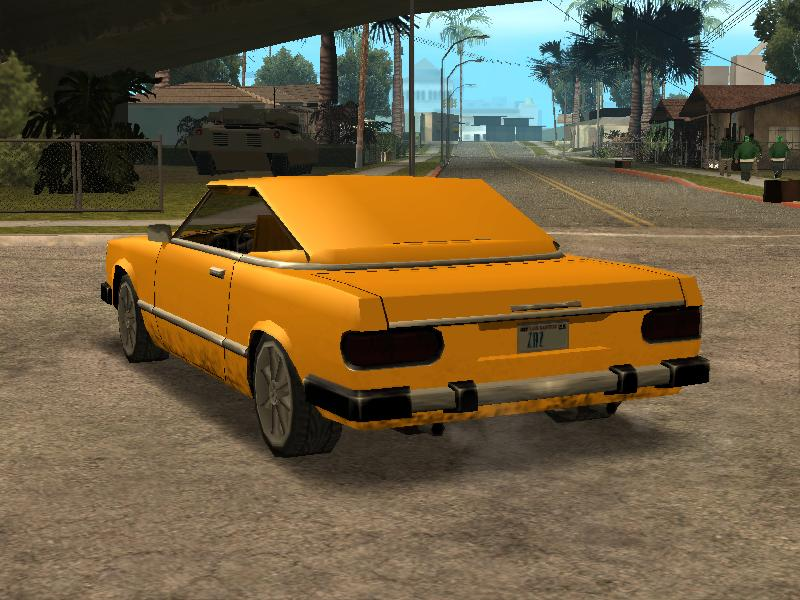car: (109, 176, 719, 456)
